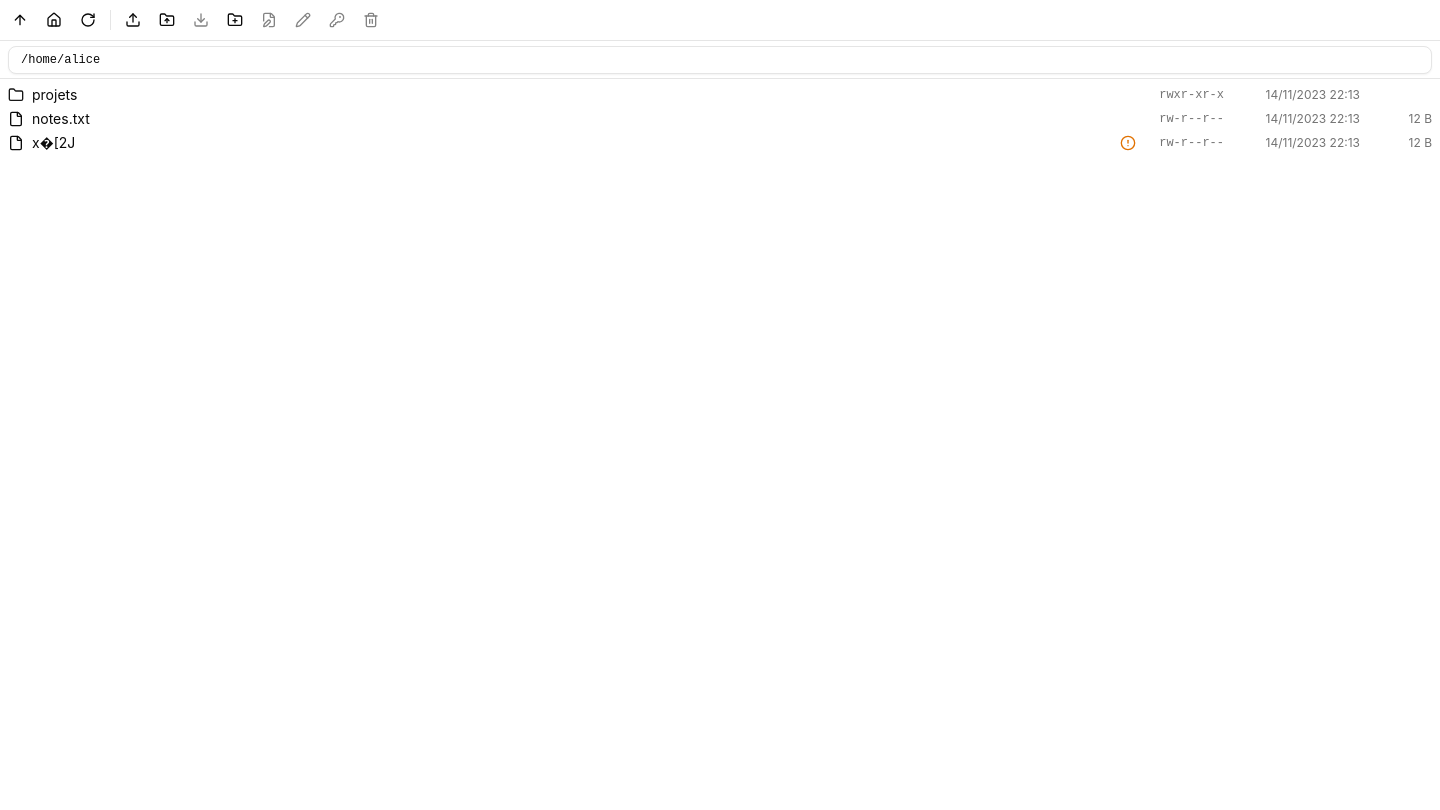
Test: RemoteBrowser › modifie les droits par les cases ou la valeur octale
Later steps or results of the test are not shown.
Click the text "notes.txt" at (61,118), box [32,110,90,127]
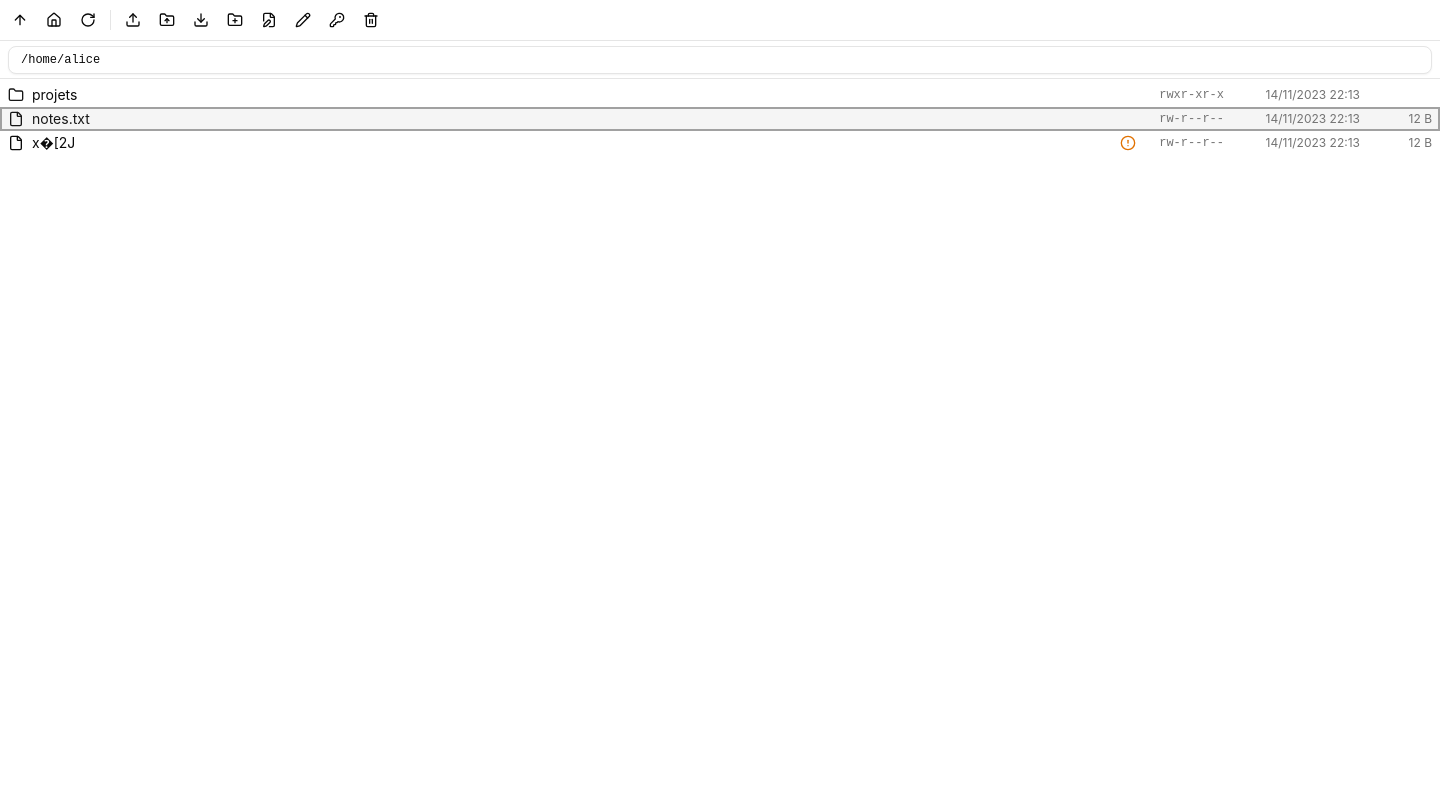
Click the button named "Droits (chmod)" at (337,20), box [321,4,353,36]
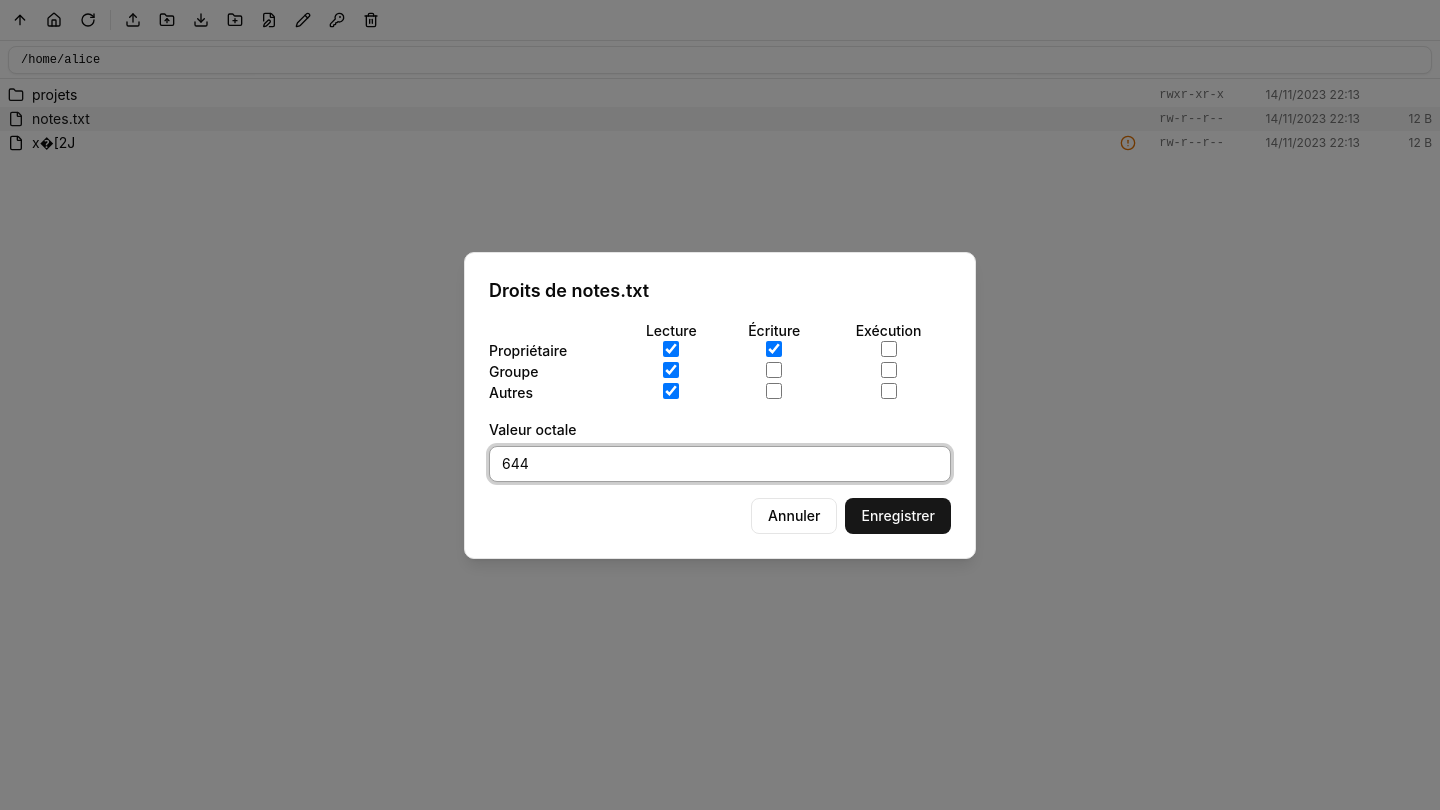
Now the field labelled "Valeur octale" holds "644", box [489,446,951,482]
Click the checkbox named "Propriétaire — Exécution" at (889,348), box [881,340,897,356]
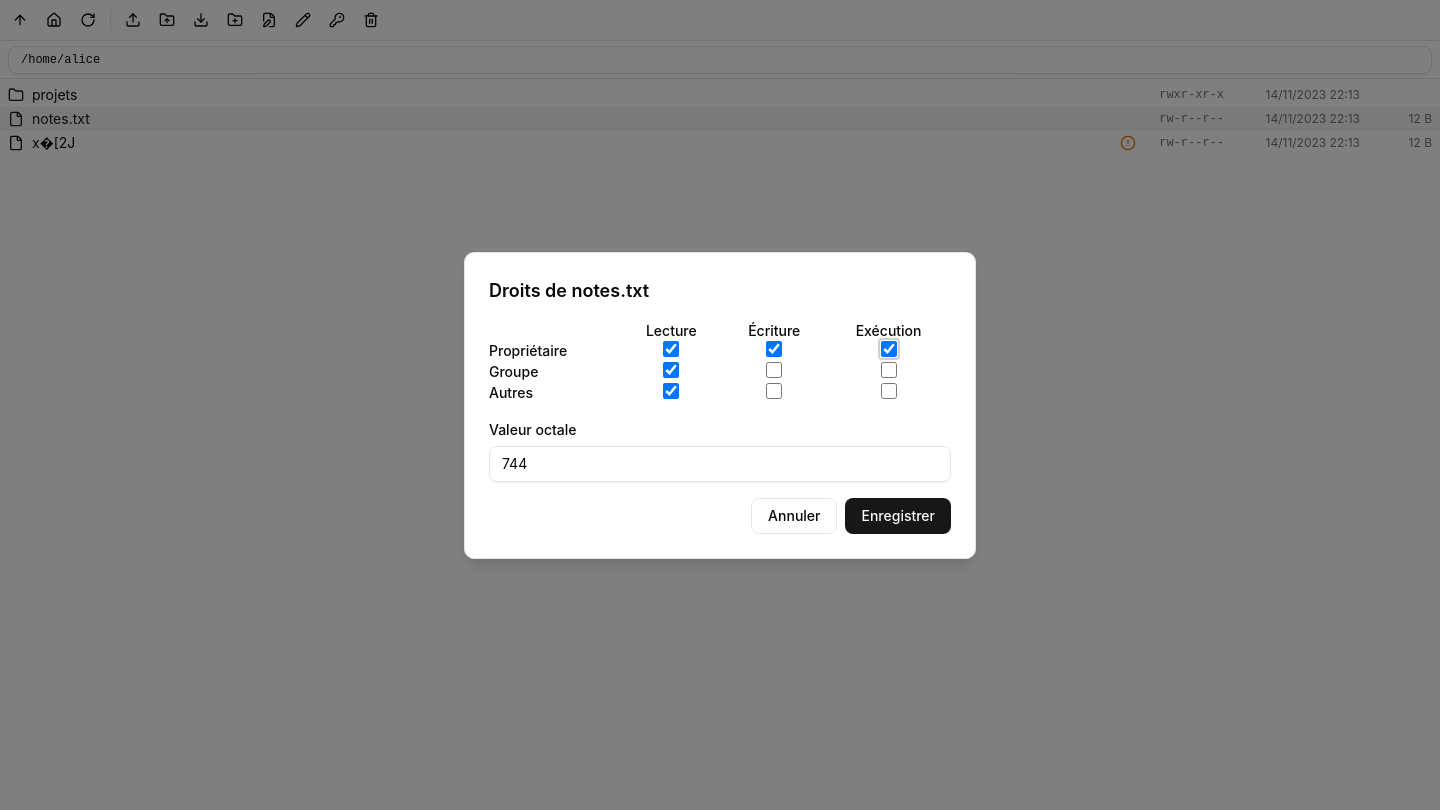
Now the field labelled "Valeur octale" holds "744", box [489,446,951,482]
